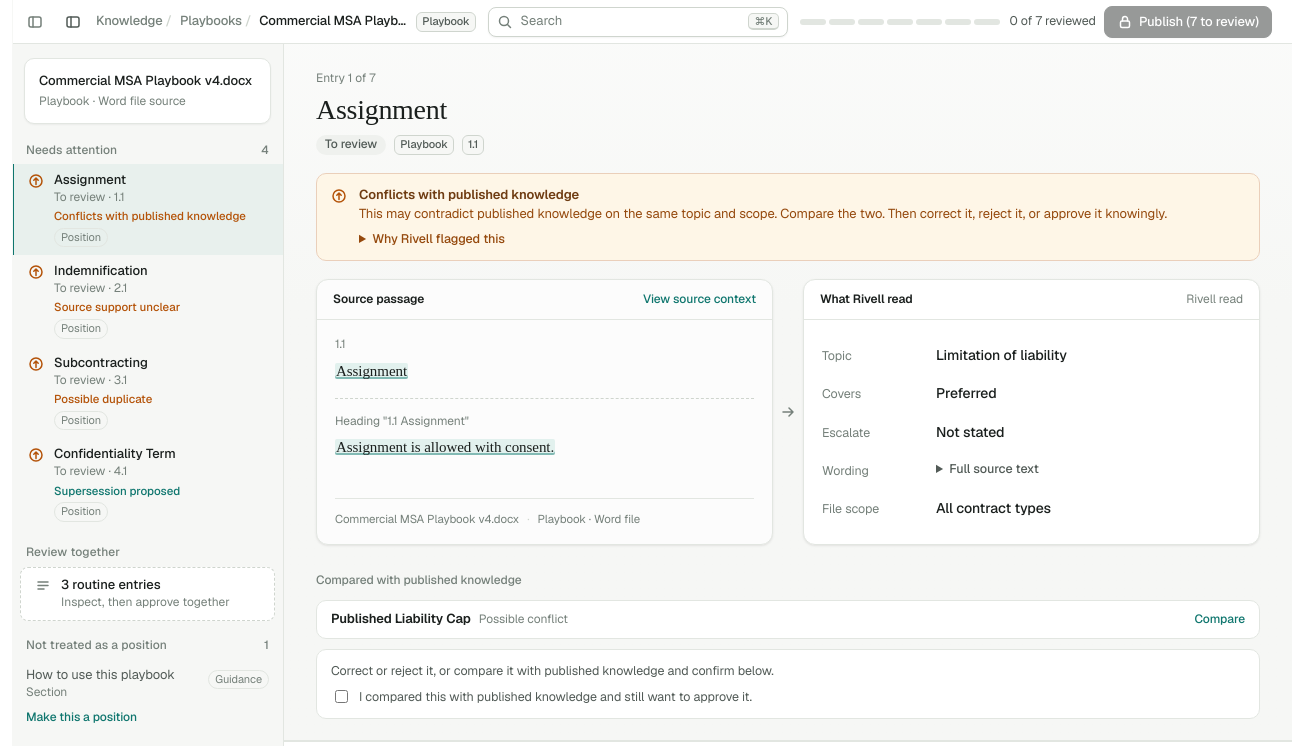
compilation workspace › says so when the server refuses, and adds nothing
The width and height of the screenshot is (1292, 746).
Check: the heading "Assignment" is shown, box [316, 94, 447, 125]
What coordinates should you click on to do the following:
click the button "Make this a position"
I would click on:
 (82, 718)
Its box is [26, 709, 137, 727].
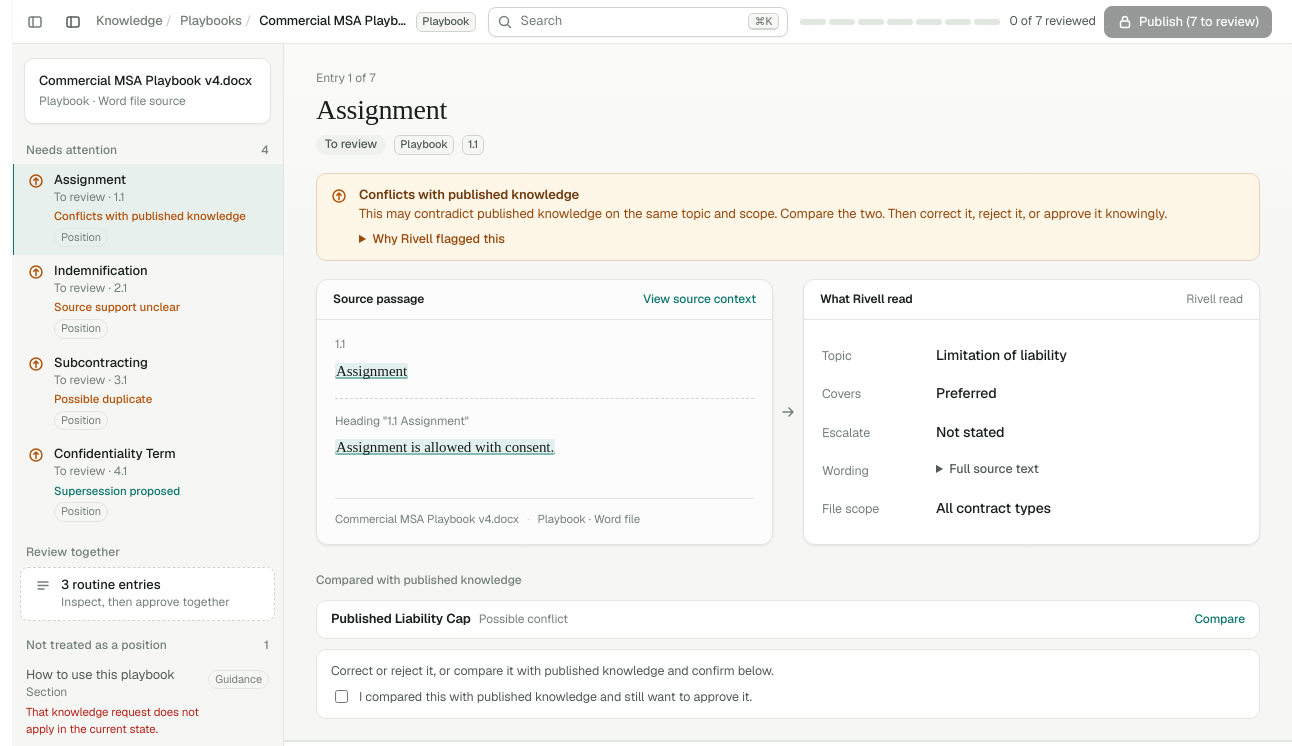
Check: the message "That knowledge request does not apply in the current state." is shown, box [26, 704, 200, 738]
